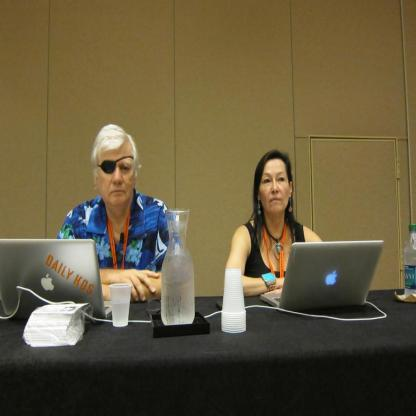board: (0, 239, 113, 320), (261, 240, 383, 313), (220, 268, 246, 314), (402, 223, 416, 299), (110, 282, 133, 327)
